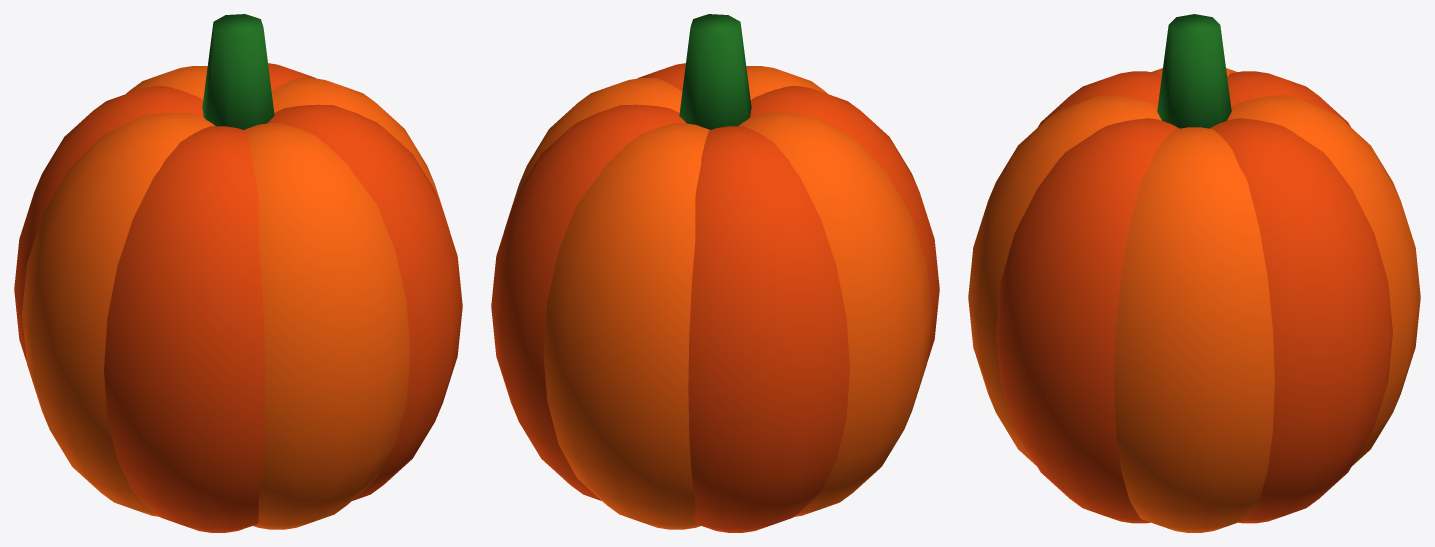
The model's file is pumpkin.glb.
The picture shows the model from 3 angles, left to right: view 1: azimuth 30°, elevation 25°; view 2: azimuth 150°, elevation 25°; view 3: azimuth 270°, elevation 25°; orthographic projection.
Parts seen in each view (by area): view 1: pumpkin; view 2: pumpkin; view 3: pumpkin.
Part boxes in pixels (box(x1,y1,x2,y2)): pumpkin: box(14, 14, 462, 532); pumpkin: box(491, 14, 939, 532); pumpkin: box(968, 14, 1420, 532).
Size of the model in its own units: 0.8717 by 1 by 0.8805.
1 material, 1 textured.
